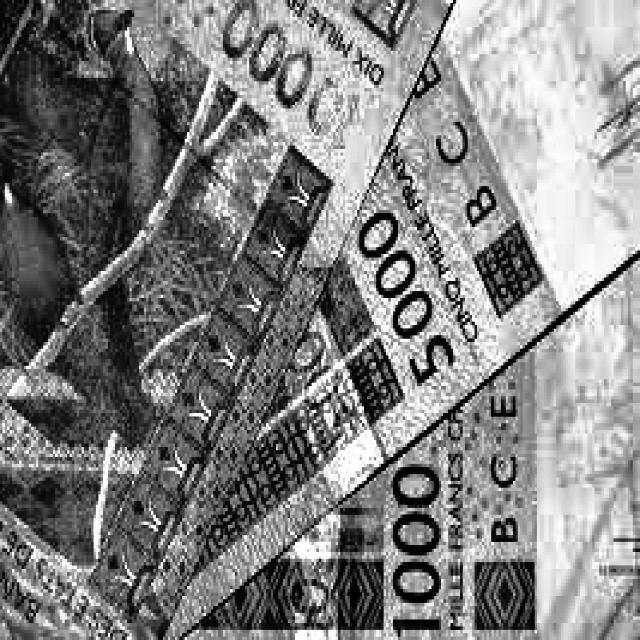junni: (170, 49, 560, 637)
niaar junni: (0, 0, 447, 637)
niaar teemeer: (194, 262, 640, 637)
